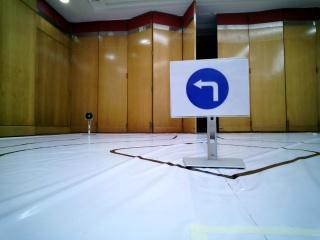left: (172, 64, 233, 109)
